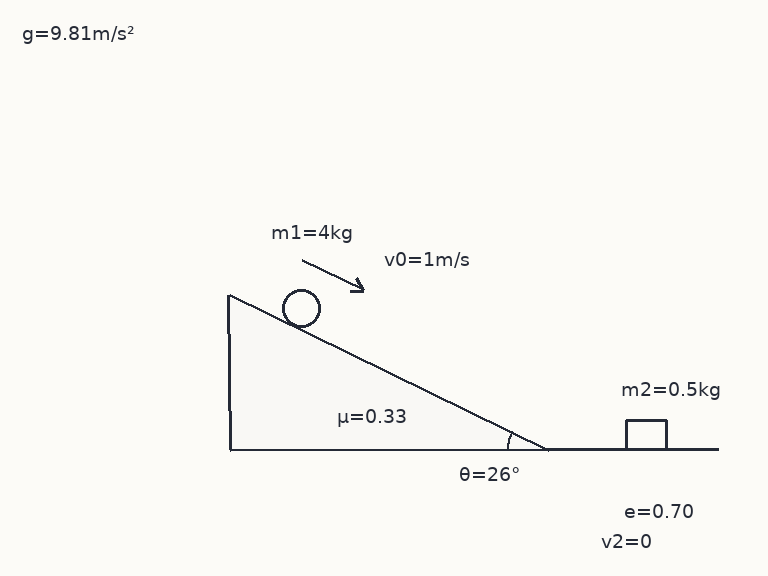ball: (280, 287, 322, 329)
block: (624, 418, 668, 451)
ramp: (228, 292, 550, 451)
